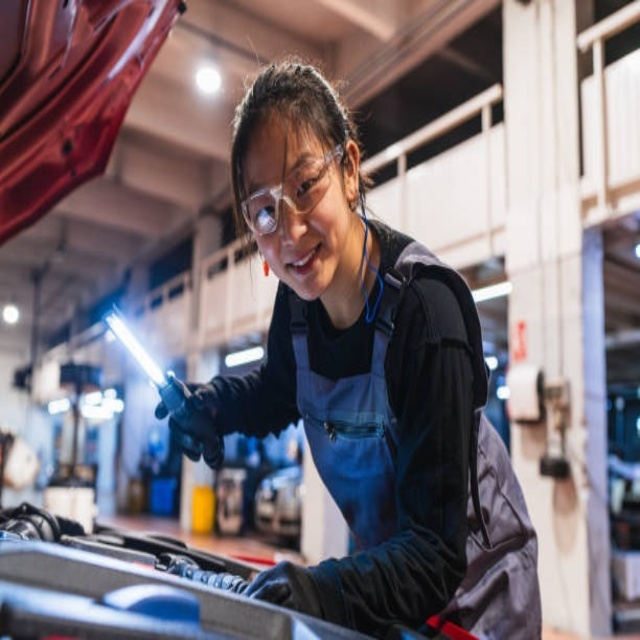Gafas: (242, 147, 343, 238)
Guantes: (155, 365, 235, 474)
Sin_mascara: (281, 243, 329, 289)
